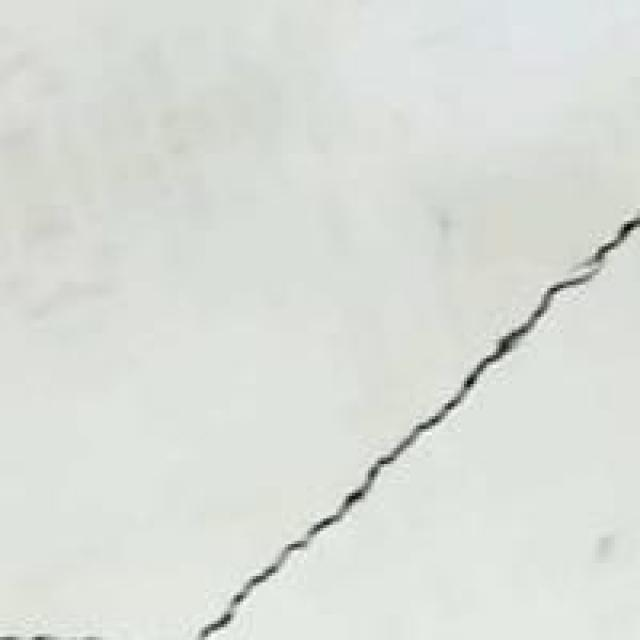crack: (195, 205, 640, 630)
